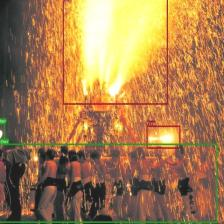fire: (62, 0, 167, 104), (146, 126, 180, 148)
